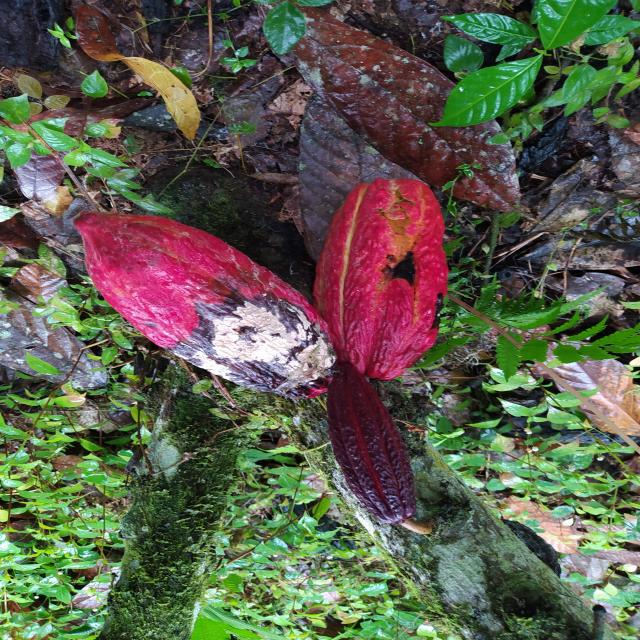Fitoftora: (316, 176, 449, 381)
Monilia: (73, 212, 337, 400)
Sana: (328, 366, 419, 523)
